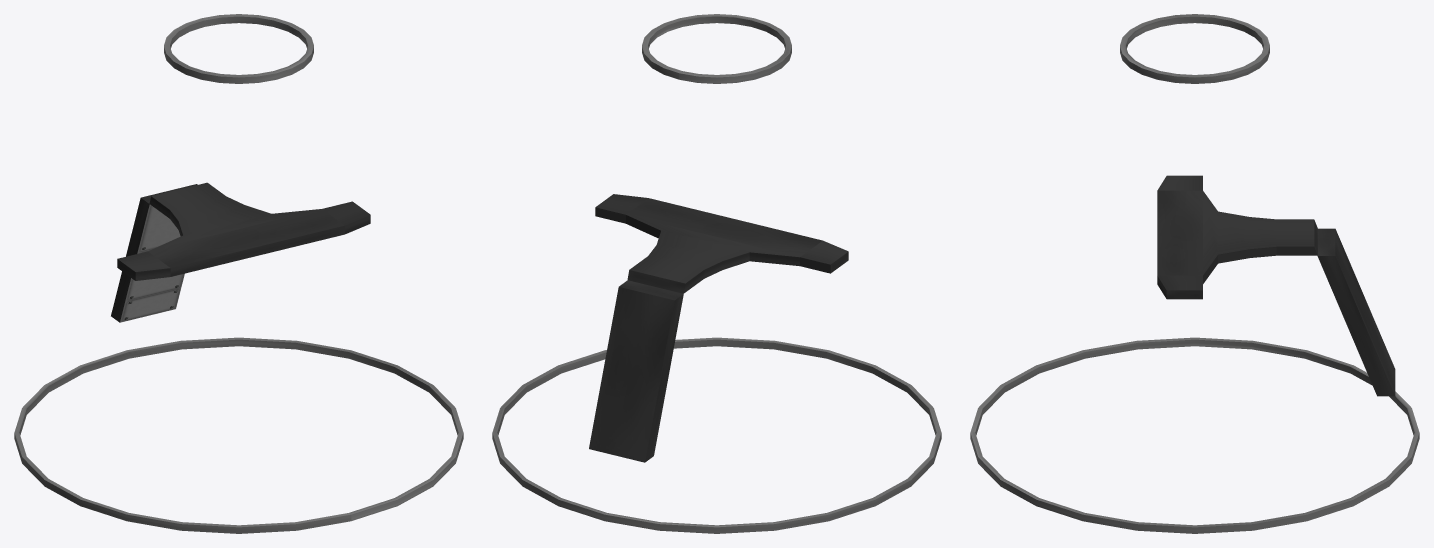
The model's file is BrumbySpaceBare.FBX.
The picture shows the model from 3 angles, left to right: view 1: azimuth 30°, elevation 25°; view 2: azimuth 150°, elevation 25°; view 3: azimuth 270°, elevation 25°; orthographic projection.
Visible parts, largest first — view 1: ControlPanelUpper, Tube001, OverheadPanel, UpperSkeletalRing001; view 2: ControlPanelUpper, OverheadPanel, Tube001, UpperSkeletalRing001; view 3: ControlPanelUpper, Tube001, OverheadPanel, UpperSkeletalRing001.
Part boxes in pixels (x1,y1,x2,y2): ControlPanelUpper: (117,182,370,280); Tube001: (14,337,463,533); OverheadPanel: (111,184,197,322); UpperSkeletalRing001: (164,14,313,83); ControlPanelUpper: (595,194,848,293); OverheadPanel: (589,280,683,462); Tube001: (492,337,941,533); UpperSkeletalRing001: (642,14,791,83); ControlPanelUpper: (1157,175,1317,299); Tube001: (970,337,1419,533); OverheadPanel: (1317,228,1395,396); UpperSkeletalRing001: (1120,14,1269,83).
Size of the model in its own units: 1.83 by 1.77 by 1.83.
